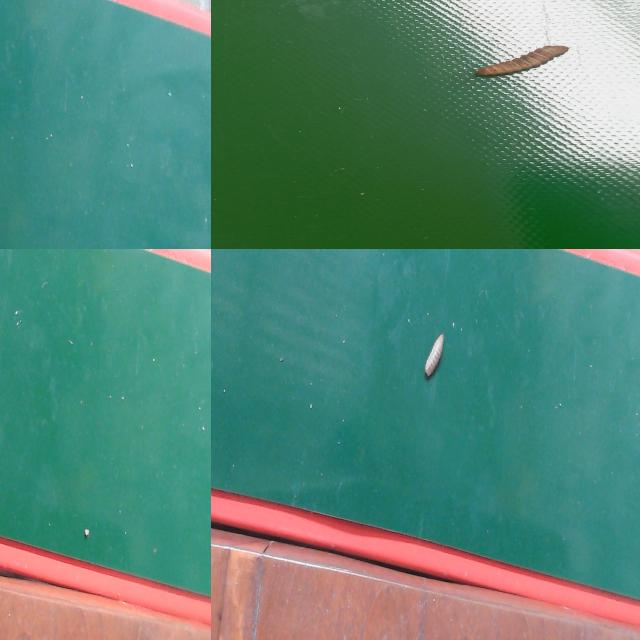Maggot: (476, 45, 570, 80), (422, 334, 448, 381)
